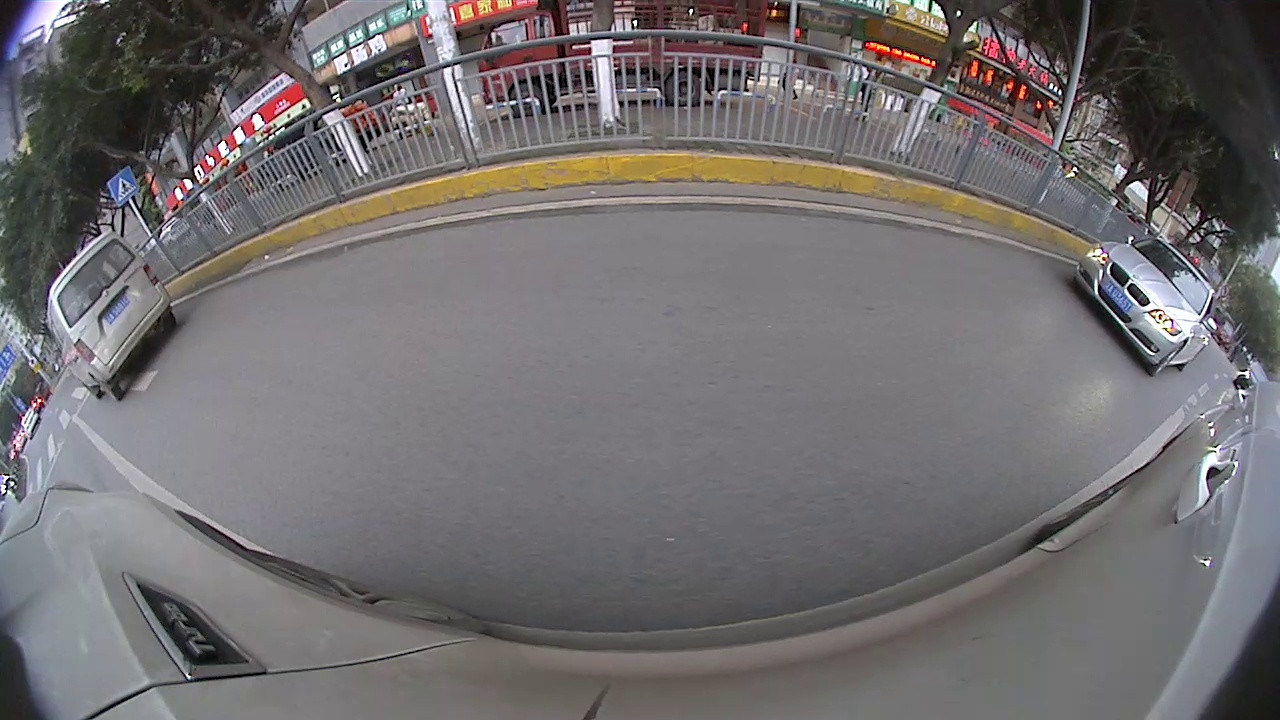car: (41, 226, 183, 408), (1067, 226, 1225, 381)
front: (508, 82, 559, 116)
rear: (661, 70, 706, 106)
truck: (478, 4, 774, 120)
